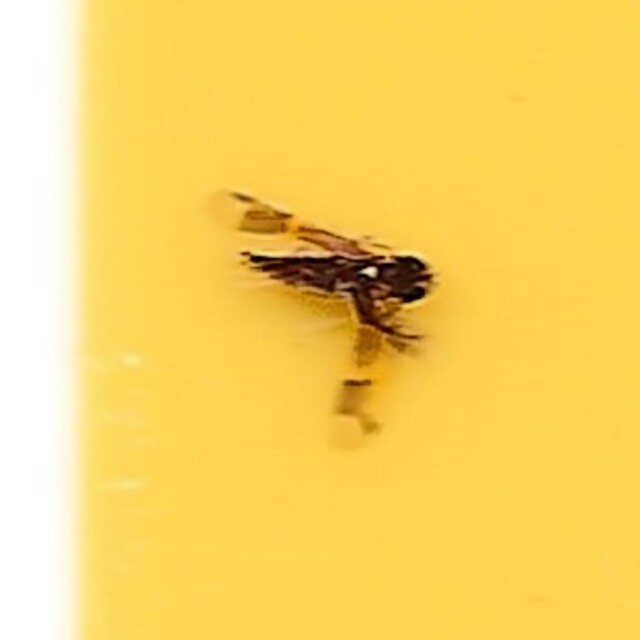Hemiptera: (205, 180, 435, 460)
